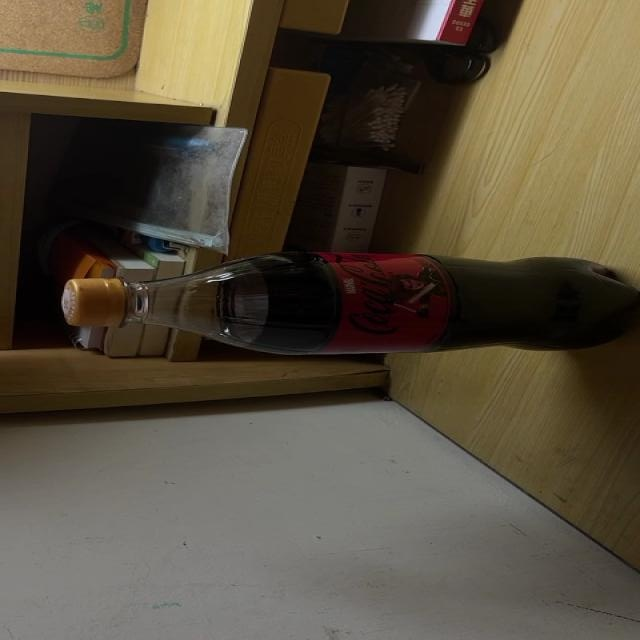Coca-Cola: (59, 253, 640, 351)
